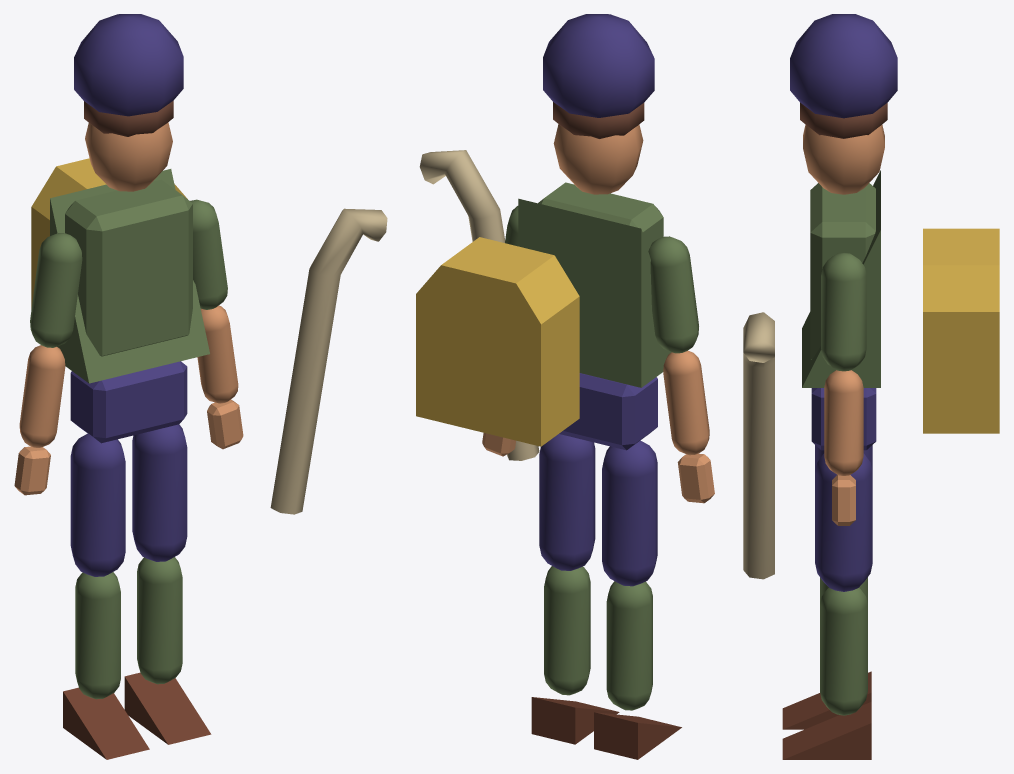
Rendered from adventurer.rustic.glb.
The picture shows the model from 3 angles, left to right: view 1: azimuth 30°, elevation 25°; view 2: azimuth 150°, elevation 25°; view 3: azimuth 270°, elevation 25°; orthographic projection.
Visible parts, largest first — view 1: torso, accessory.main-hand, accessory.head, thigh.left, pelvis, thigh.right, tunic, shin.left, shin.right, upper-arm.left, head, foot.right (+8 smaller); view 2: accessory.back, tunic, accessory.head, thigh.left, thigh.right, shin.left, shin.right, pelvis, upper-arm.left, head, accessory.main-hand, forearm.left (+6 smaller); view 3: accessory.back, accessory.head, accessory.main-hand, shin.right, thigh.right, torso, upper-arm.right, head, tunic, forearm.right, foot.right, hair (+3 smaller).
Part boxes in pixels (x1=…): torso: x1=65, y1=179, x2=192, y2=356; accessory.main-hand: x1=270, y1=208, x2=387, y2=514; accessory.head: x1=74, y1=14, x2=183, y2=116; thigh.left: x1=70, y1=433, x2=125, y2=576; pelvis: x1=70, y1=361, x2=187, y2=443; thigh.right: x1=132, y1=424, x2=187, y2=561; tunic: x1=50, y1=169, x2=209, y2=383; shin.left: x1=75, y1=572, x2=120, y2=699; shin.right: x1=137, y1=557, x2=182, y2=684; upper-arm.left: x1=30, y1=233, x2=82, y2=347; head: x1=85, y1=122, x2=172, y2=191; foot.right: x1=124, y1=672, x2=211, y2=744; accessory.back: x1=416, y1=237, x2=579, y2=446; tunic: x1=518, y1=198, x2=671, y2=387; accessory.head: x1=543, y1=14, x2=654, y2=117; thigh.left: x1=602, y1=440, x2=657, y2=586; thigh.right: x1=539, y1=434, x2=595, y2=570; shin.left: x1=606, y1=581, x2=652, y2=710; shin.right: x1=544, y1=566, x2=590, y2=695; pelvis: x1=559, y1=373, x2=657, y2=450; upper-arm.left: x1=648, y1=236, x2=698, y2=353; head: x1=553, y1=124, x2=643, y2=194; accessory.main-hand: x1=419, y1=150, x2=539, y2=460; forearm.left: x1=663, y1=350, x2=709, y2=455; accessory.back: x1=923, y1=228, x2=999, y2=433; accessory.head: x1=790, y1=14, x2=897, y2=118; accessory.main-hand: x1=743, y1=312, x2=774, y2=579; shin.right: x1=820, y1=588, x2=867, y2=715; thigh.right: x1=815, y1=453, x2=872, y2=591; torso: x1=810, y1=183, x2=875, y2=359; upper-arm.right: x1=821, y1=252, x2=866, y2=371; head: x1=803, y1=124, x2=884, y2=194; tunic: x1=802, y1=170, x2=880, y2=387; forearm.right: x1=824, y1=370, x2=863, y2=475; foot.right: x1=782, y1=702, x2=871, y2=759; hair: x1=800, y1=102, x2=887, y2=138.
Bounding box in the file's own units: 1.58 × 3.29 × 1.07.
